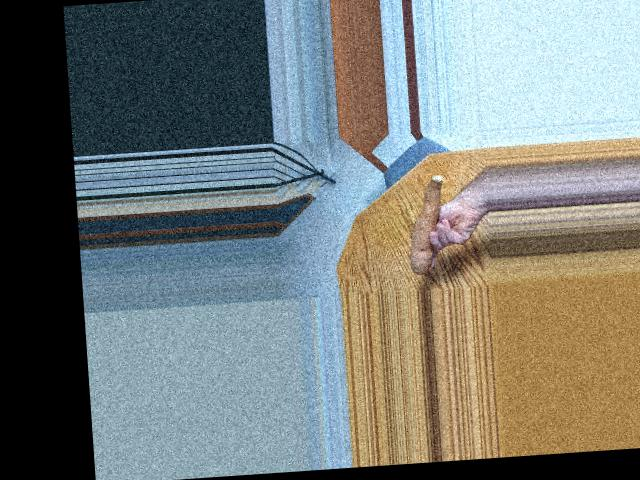sweet_potato: (400, 172, 452, 273)
